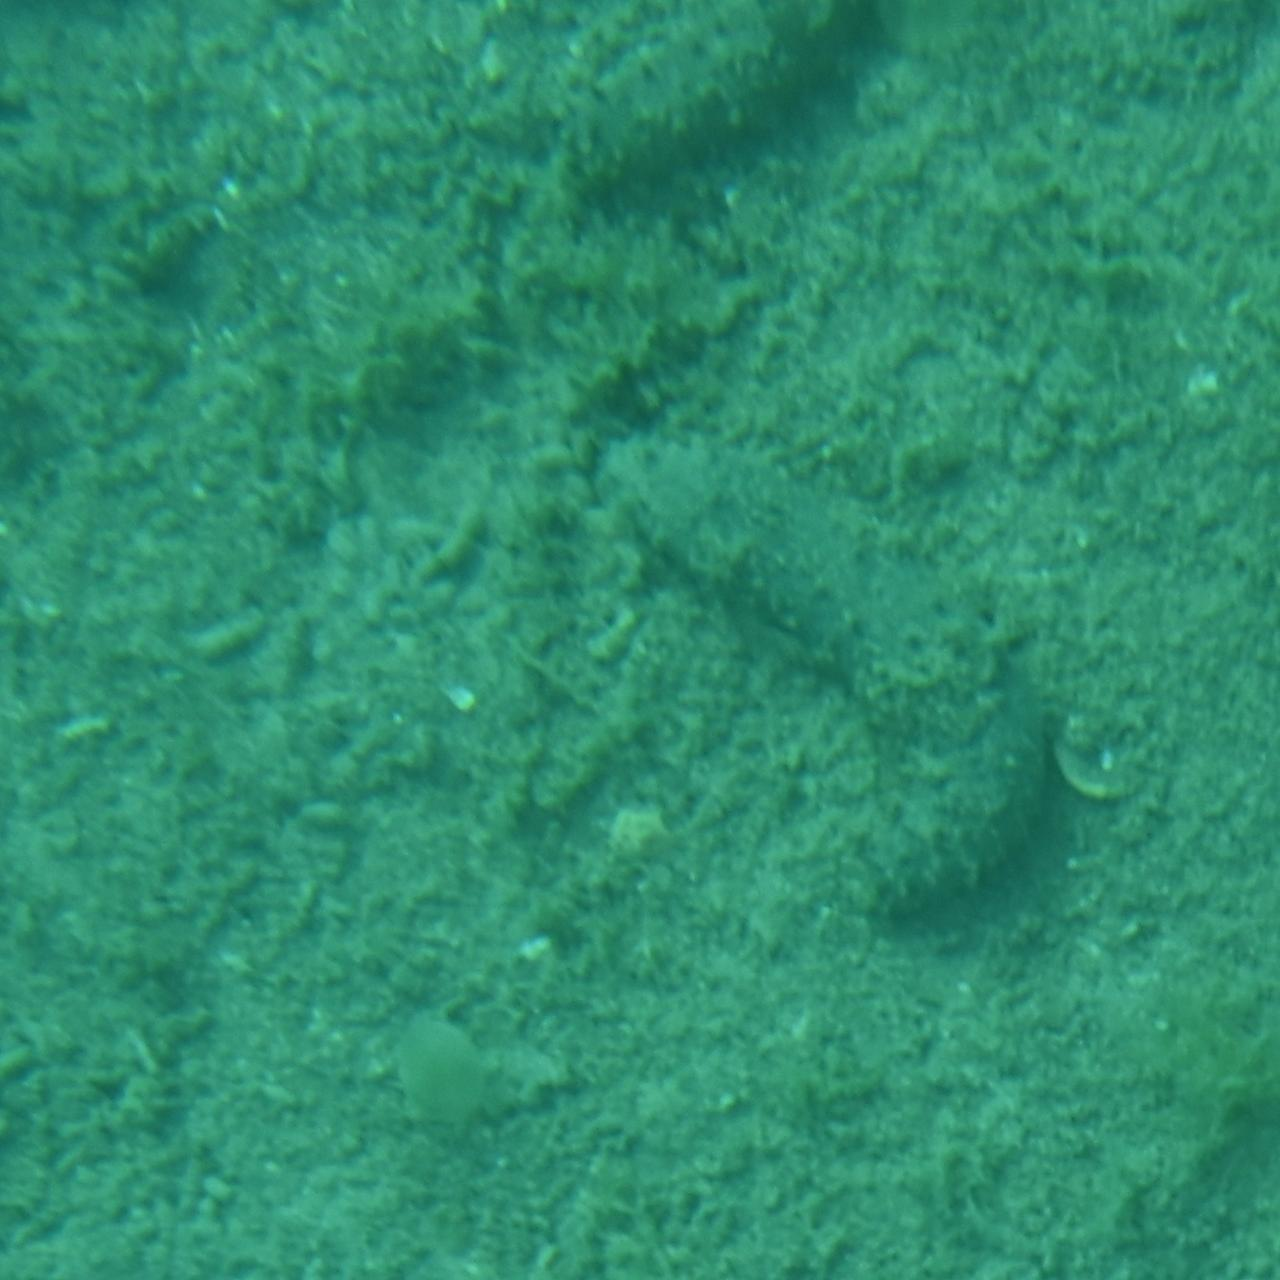Holothuria tubulosa: (558, 430, 1074, 946), (551, 0, 853, 245), (0, 0, 161, 408)
Phaeophyceae -cfr Cystoseira-: (1096, 183, 1280, 615)
